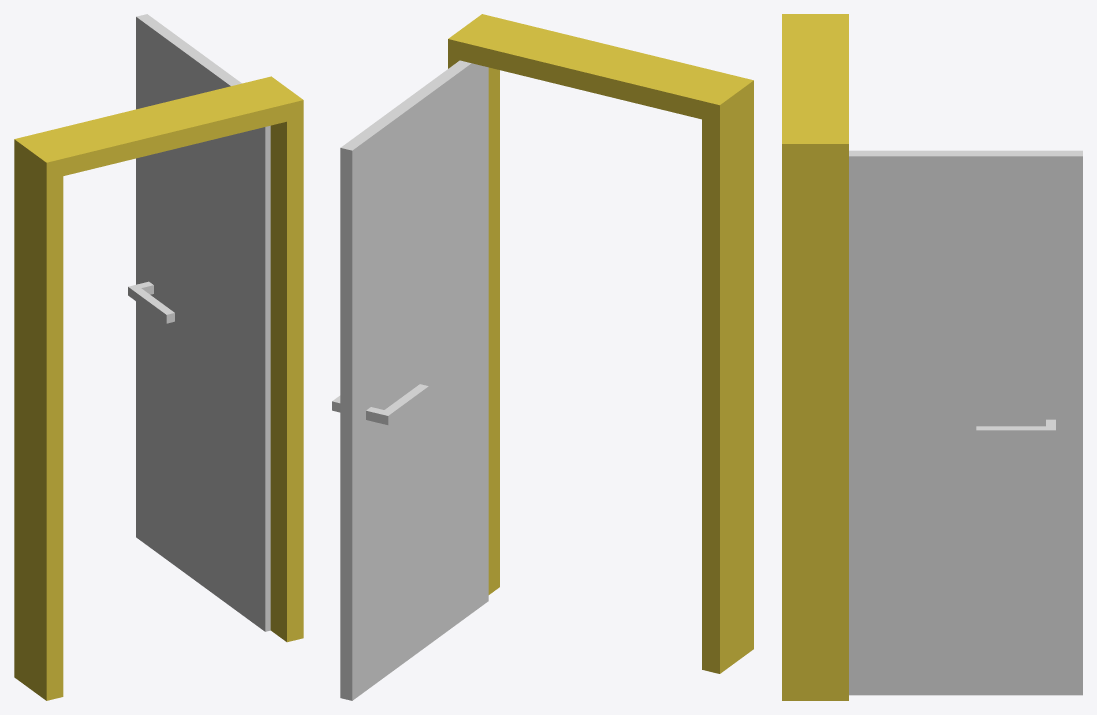
Rendered from door.C6LNEo4M.glb.
The picture shows the model from 3 angles, left to right: view 1: azimuth 30°, elevation 25°; view 2: azimuth 150°, elevation 25°; view 3: azimuth 270°, elevation 25°; orthographic projection. The views are drawn at different scales.
Visible parts, largest first — view 1: blade, base, handle_2; view 2: blade, base, handle_2; view 3: blade, base, handle_1.
Boxes of the visible parts, bbox=[...] form: blade: bbox=[136, 14, 270, 631]; base: bbox=[14, 76, 303, 700]; handle_2: bbox=[128, 281, 174, 323]; blade: bbox=[340, 60, 488, 700]; base: bbox=[448, 14, 753, 673]; handle_2: bbox=[366, 384, 428, 424]; blade: bbox=[849, 150, 1082, 695]; base: bbox=[782, 14, 848, 700]; handle_1: bbox=[976, 419, 1055, 439].
Size of the model in its own units: 0.955 by 1.84 by 0.9.
